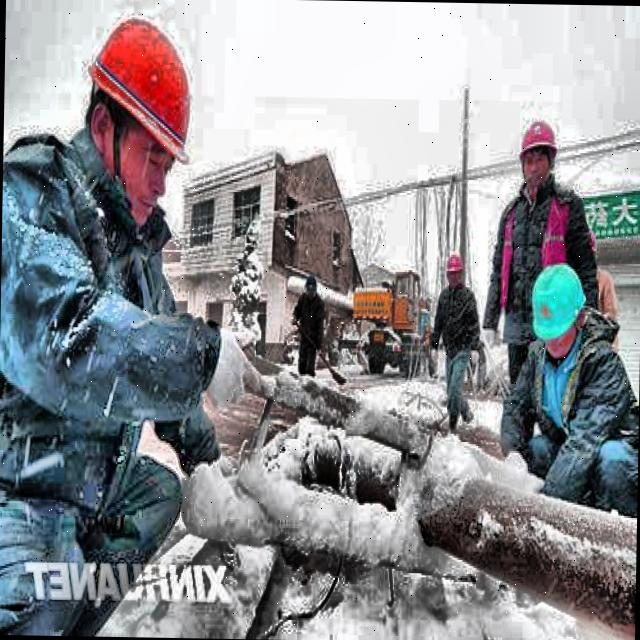helmet: (75, 0, 205, 224), (526, 257, 586, 354), (516, 114, 560, 194), (442, 250, 466, 293)
